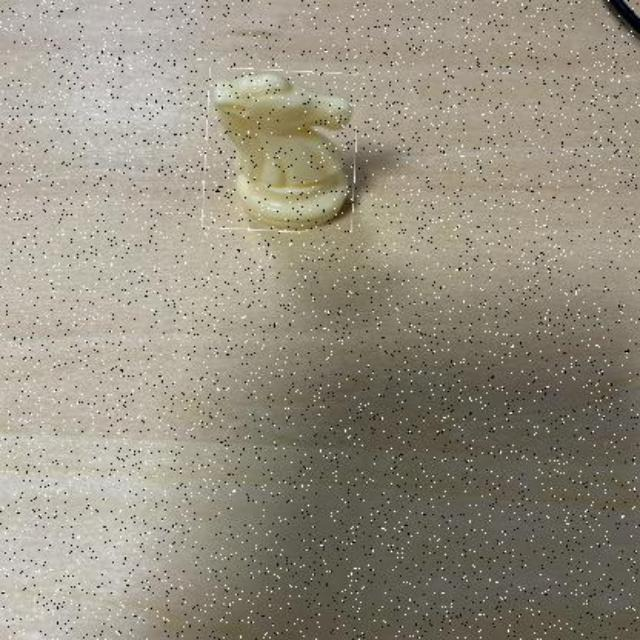white-knight: (205, 70, 357, 232)
